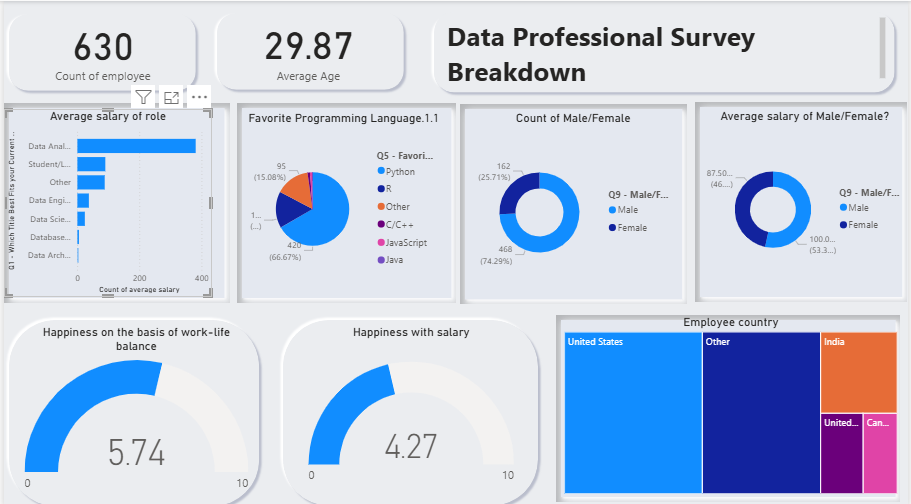

The page's visual inventory and layout, read from the dashboard file:
{"tool":"powerbi","page":{"name":"Page 1","canvas":[1280,720],"ordinal":0},"visuals":[{"type":"shape","box":[294.5,16.2,248.8,117.2],"z":0,"group":"g2"},{"type":"shape","box":[0,17.4,248.8,117.2],"z":0,"group":"g1"},{"type":"shape","box":[602.8,19.6,248.8,117.2],"z":0,"group":"g5"},{"type":"shape","box":[979.2,143.2,300.8,283.5],"z":0},{"type":"shape","box":[0,445.1,368.8,278],"z":0,"group":"g3"},{"type":"shape","box":[388,445.1,375.5,277.5],"z":0,"group":"g4"},{"type":"shape","box":[603.2,9.1,666.8,128.2],"z":1000,"group":"g5"},{"type":"shape","box":[294.5,10.4,278.9,123],"z":1000,"group":"g2"},{"type":"group","id":"g1","title":"Group 1","box":[0,11.6,278.9,123],"z":1000},{"type":"shape","box":[0,11.6,278.9,123],"z":1000,"group":"g1"},{"type":"shape","box":[0,445.1,368.8,278],"z":1000,"group":"g3"},{"type":"shape","box":[388,445.1,375.5,277.5],"z":1000,"group":"g4"},{"type":"group","id":"g2","title":"Group 1","box":[294.5,10.4,278.9,123],"z":3000},{"type":"shape","box":[0,144.6,319.6,283.5],"z":4000},{"type":"shape","box":[782.9,445.1,488.4,265],"z":5000},{"type":"shape","box":[646.1,145.5,322.2,284.1],"z":6000},{"type":"card","fields":{"Values":["Count(Data Professional Survey.Unique ID)"]},"box":[0,0,280.6,135.1],"z":7000},{"type":"card","title":"Average age","fields":{"Values":["Avg(Data Professional Survey.Q10 - Current Age)"]},"box":[318.7,12.1,225.2,109.1],"z":9000},{"type":"barChart","title":"Average salary of role","fields":{"Category":["Data Professional Survey.Q1 - Which Title Best Fits your Current Role?.1"],"Y":["CountNonNull(Data Professional Survey.average salary)"]},"box":[0,153.3,295.1,266.1],"z":10000},{"type":"shape","box":[329.8,144.6,311,283.5],"z":11000},{"type":"donutChart","title":"Count of Male/Female","fields":{"Category":["Data Professional Survey.Q9 - Male/Female?"],"Y":["CountNonNull(Data Professional Survey.Unique ID)"]},"box":[656.5,155.9,301.4,268.5],"z":12000},{"type":"donutChart","title":"Average salary of Male/Female?","fields":{"Category":["Data Professional Survey.Q9 - Male/Female?"],"Y":["CountNonNull(Data Professional Survey.average salary)"]},"box":[990.7,153.3,289.3,266.1],"z":13000},{"type":"pieChart","title":"Favorite Programming Language.1.1","fields":{"Category":["Data Professional Survey.Q5 - Favorite Programming Language.1.1"],"Y":["CountNonNull(Data Professional Survey.Unique ID)"]},"box":[341.3,156.2,280.6,258.9],"z":14000},{"type":"group","id":"g3","title":"Group 1","box":[0,445.1,368.9,275.4],"z":15000},{"type":"group","id":"g4","title":"Group 1","box":[388,445.1,375.9,275.4],"z":16000},{"type":"gauge","title":"    Happiness on the basis of work-life balance","fields":{"Y":["Avg(Data Professional Survey.Q6 - How Happy are you in your Current Position with the following? (Work/Life Balance))"],"MinValue":["Min(Data Professional Survey.Q6 - How Happy are you in your Current Position with the following? (Work/Life Balance))"],"MaxValue":["Max(Data Professional Survey.Q6 - How Happy are you in your Current Position with the following? (Work/Life Balance))"]},"box":[24.2,459,327.4,251.2],"z":17000},{"type":"gauge","title":"Happiness with salary","fields":{"MaxValue":["Max(Data Professional Survey.Q6 - How Happy are you in your Current Position with the following? (Salary))"],"Y":["Avg(Data Professional Survey.Q6 - How Happy are you in your Current Position with the following? (Salary))"],"MinValue":["Min(Data Professional Survey.Q6 - How Happy are you in your Current Position with the following? (Salary))"]},"box":[426.1,459,301.4,261.5],"z":18000},{"type":"treemap","title":"Employee country","fields":{"Group":["Data Professional Survey.Q11 - Which Country do you live in?.1"],"Values":["CountNonNull(Data Professional Survey.Unique ID)"]},"box":[789.8,445.1,481.5,258.1],"z":19000},{"type":"group","id":"g5","title":"Group 1","box":[602.8,9.1,667.3,128.2],"z":20000},{"type":"textbox","box":[621.8,19.1,632.2,102.2],"z":21000}]}

Visuals, with their boxes in screenshot pixels (x1, y1, x2, y2), scaled from the page's 1280x720 canvas onto the 911x504 screenshot:
shape: 210:11:387:93
shape: 0:12:177:94
shape: 429:14:606:96
shape: 697:100:910:299
shape: 0:312:262:503
shape: 276:312:543:503
shape: 429:6:904:96
shape: 210:7:408:93
"Group 1" group: 0:8:198:94
shape: 0:8:198:94
shape: 0:312:262:503
shape: 276:312:543:503
"Group 1" group: 210:7:408:93
shape: 0:101:227:300
shape: 557:312:905:497
shape: 460:102:689:301
card - Count(Data Professional Survey.Unique ID): 0:0:200:95
"Average age" card: 227:8:387:85
"Average salary of role" barChart: 0:107:210:294
shape: 235:101:456:300
"Count of Male/Female" donutChart: 467:109:682:297
"Average salary of Male/Female?" donutChart: 705:107:910:294
"Favorite Programming Language.1.1" pieChart: 243:109:443:291
"Group 1" group: 0:312:263:503
"Group 1" group: 276:312:544:503
"    Happiness on the basis of work-life balance" gauge: 17:321:250:497
"Happiness with salary" gauge: 303:321:518:503
"Employee country" treemap: 562:312:905:492
"Group 1" group: 429:6:904:96
textbox: 443:13:892:85
